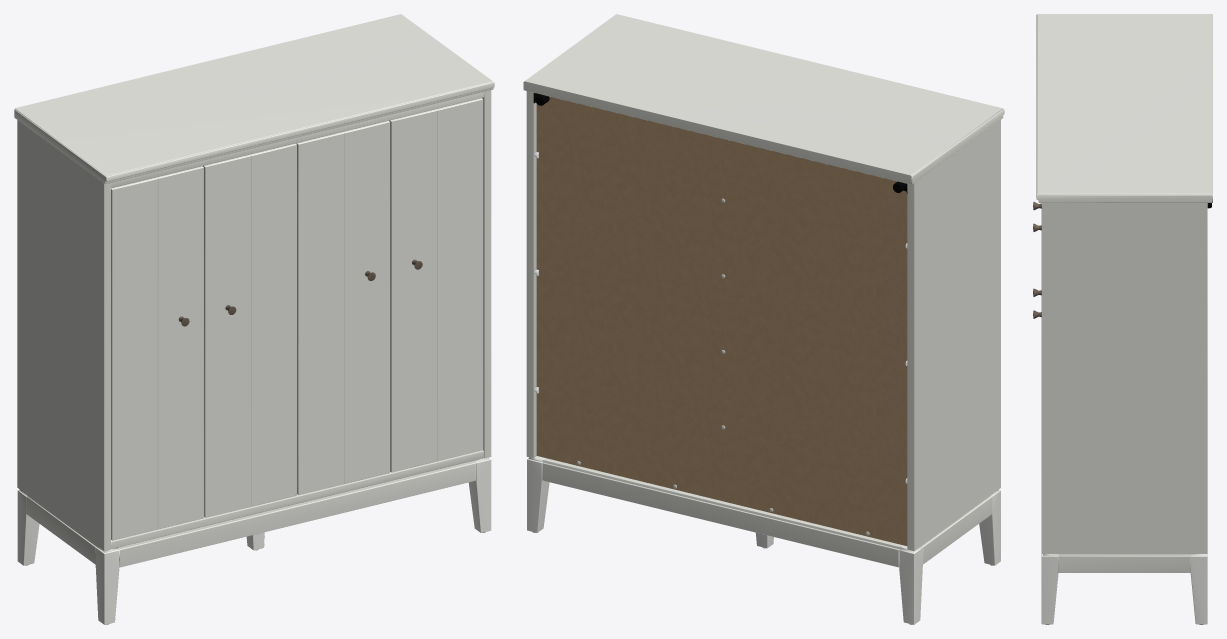
File: Idanas.glb
3 renders of one model, left to right at view 1: azimuth 30°, elevation 25°; view 2: azimuth 150°, elevation 25°; view 3: azimuth 270°, elevation 25°, orthographic. The views are drawn at different scales.
Parts seen in each view (by area): view 1: model; view 2: model; view 3: model.
Part boxes in pixels (x1,y1,x2,y2): model: [14, 14, 494, 624]; model: [523, 14, 1004, 624]; model: [1033, 14, 1212, 624].
Bounding box in the file's own units: 1.21 × 1.35 × 0.509.
Materials: 1 (1 with a texture image).
